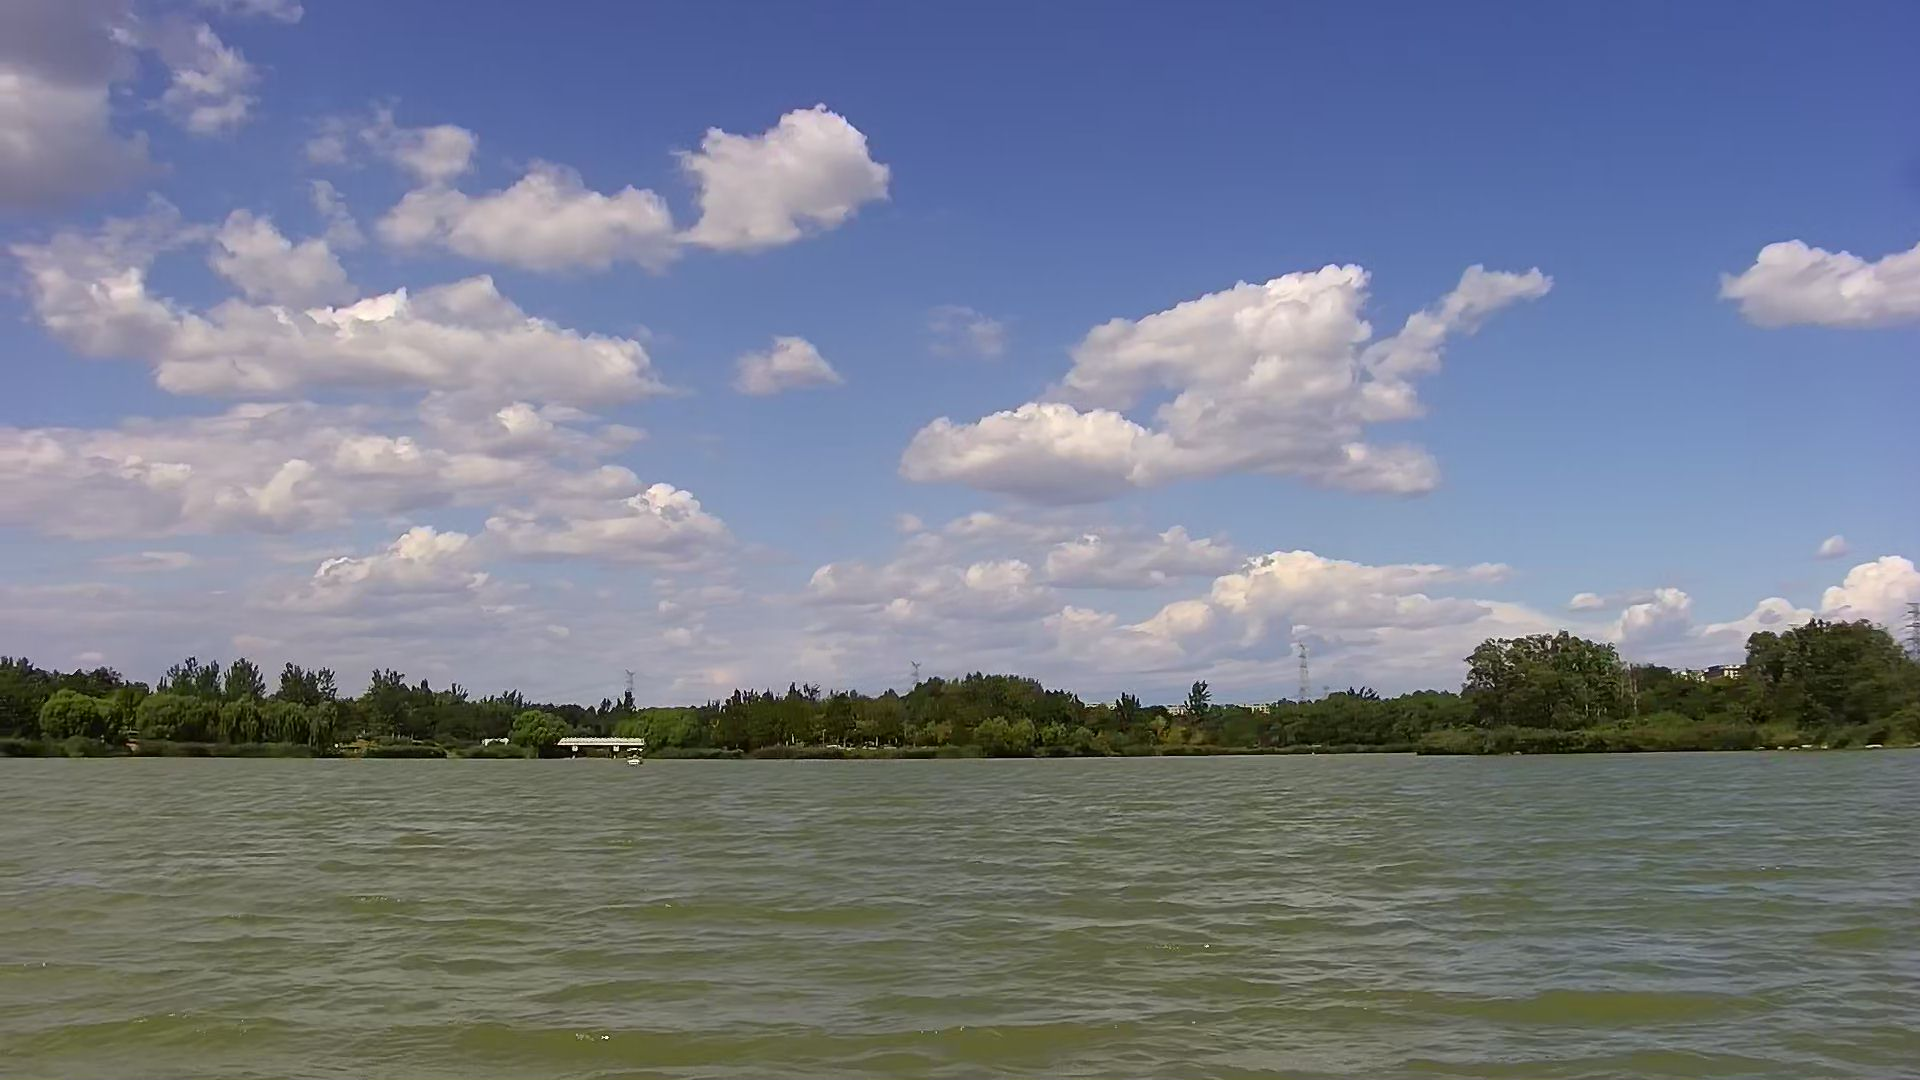bridge: (555, 738, 647, 758)
